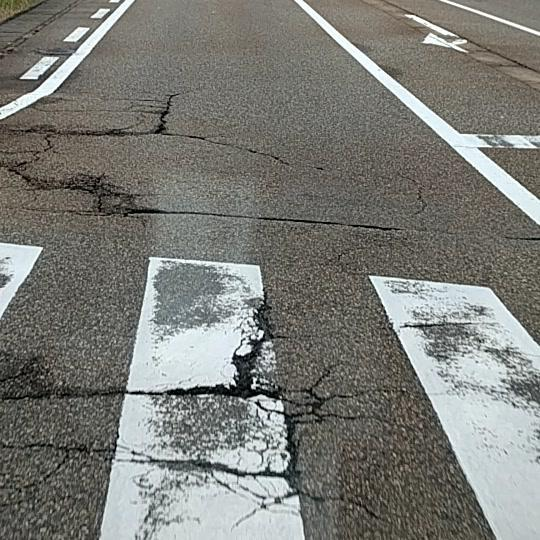D00: (401, 172, 437, 218)
D20: (0, 302, 363, 539), (0, 71, 291, 225)
